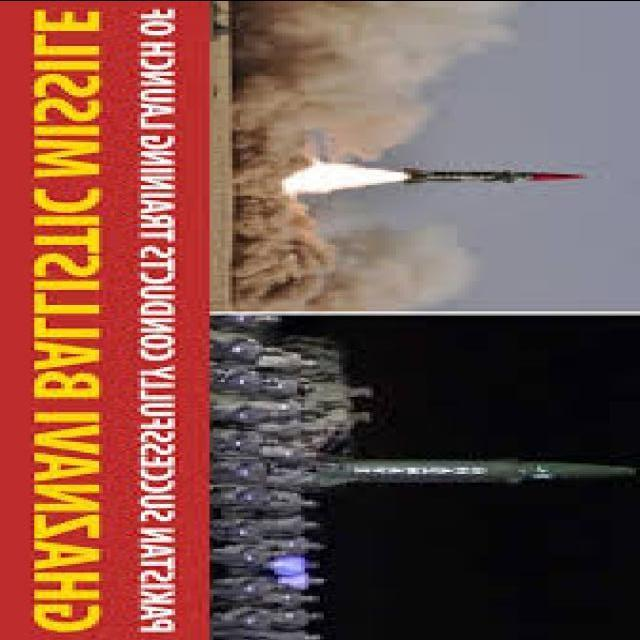Missile: (313, 451, 640, 486), (401, 162, 591, 185)
